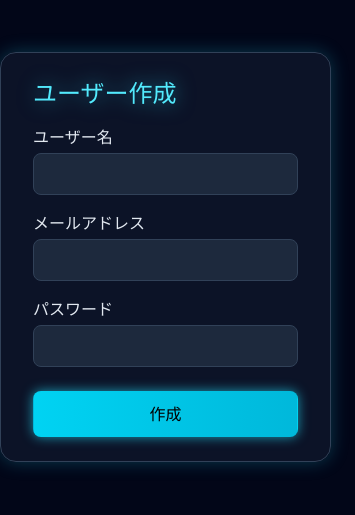
Scenario: CreateUserCard › APIが失敗した場合はエラーメッセージを表示する
The width and height of the screenshot is (355, 515).
Type "Alice" into the field labelled "ユーザー名".
click(166, 174); type("Alice")  # box [33,153,298,195]
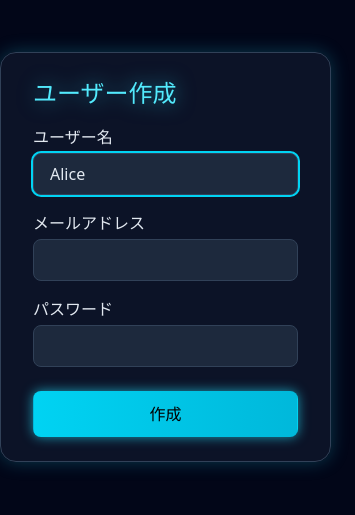
Type "alice@example.com" into the field labelled "メールアドレス".
click(166, 260); type("alice@example.com")  # box [33,239,298,281]
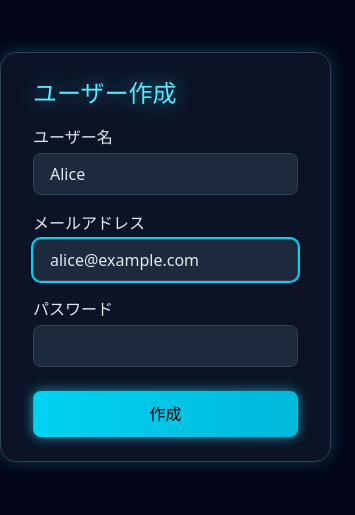
Type "Password1" into the password field labelled "パスワード".
click(166, 346); type("Password1")  # box [33,325,298,367]
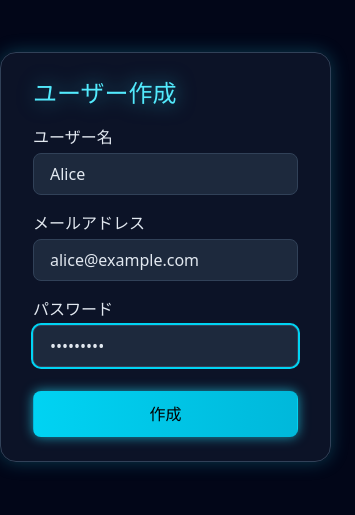
Click the button "作成".
click(166, 414)  # box [33,391,298,437]
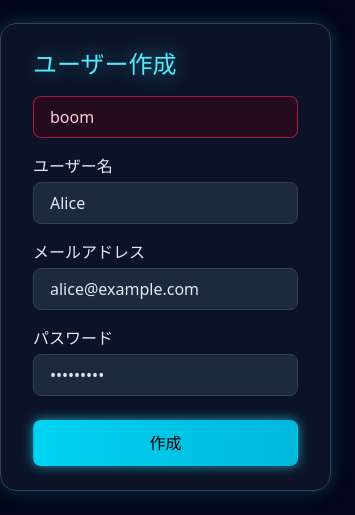
Expected: the text "boom" is shown, [33,96,298,138]
